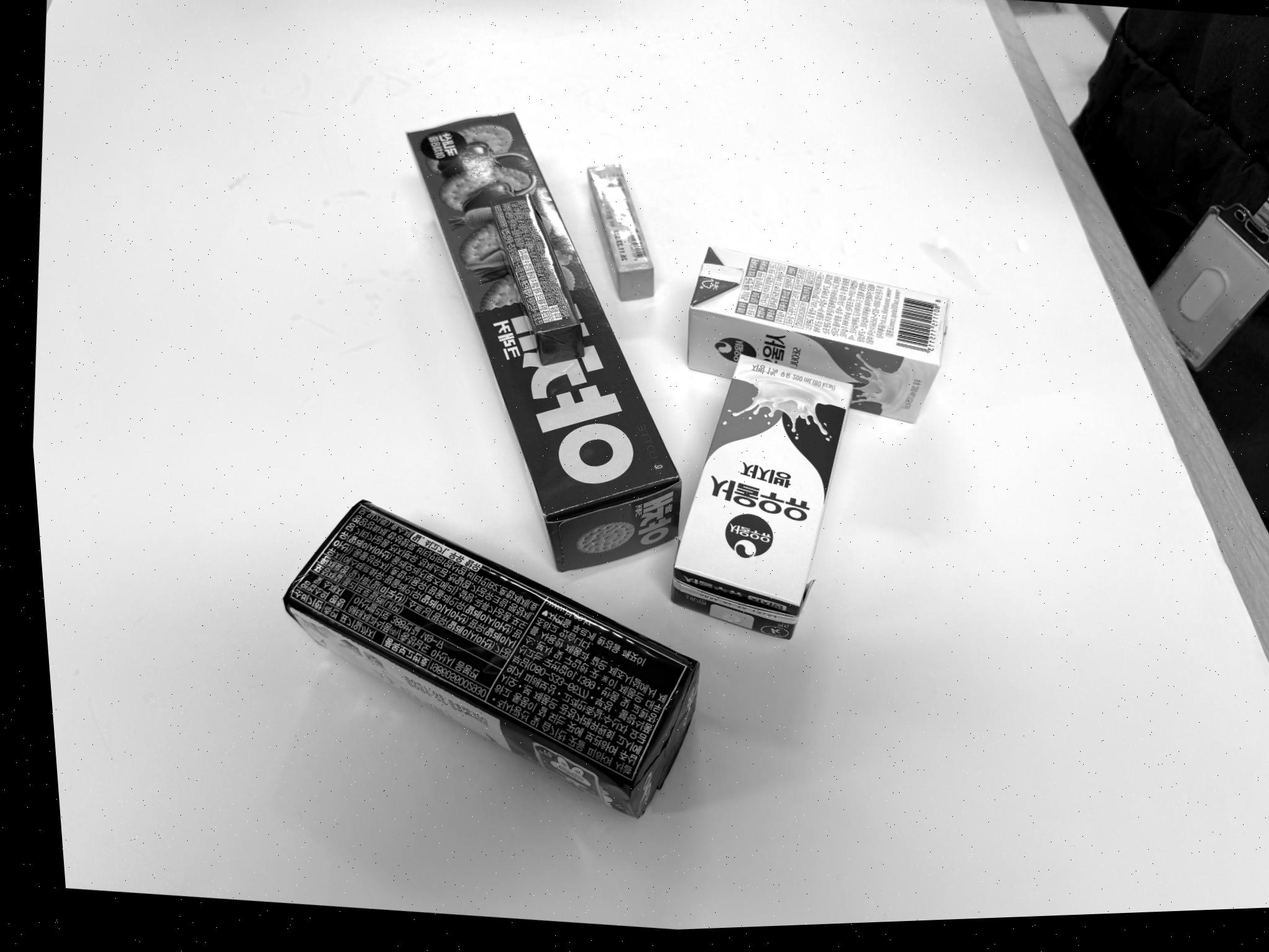cracker_ace: (284, 501, 697, 816)
cracker_vege: (407, 113, 682, 570)
gum_green: (492, 196, 584, 363)
gum_yellow: (587, 165, 654, 300)
milk_blue: (672, 356, 850, 639)
milk_green: (687, 247, 949, 422)
